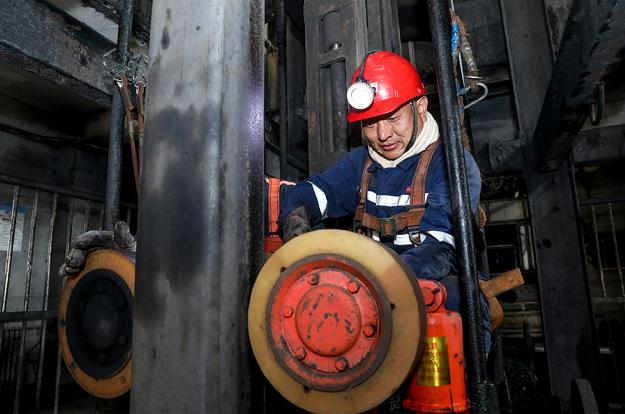device: (280, 49, 482, 309)
